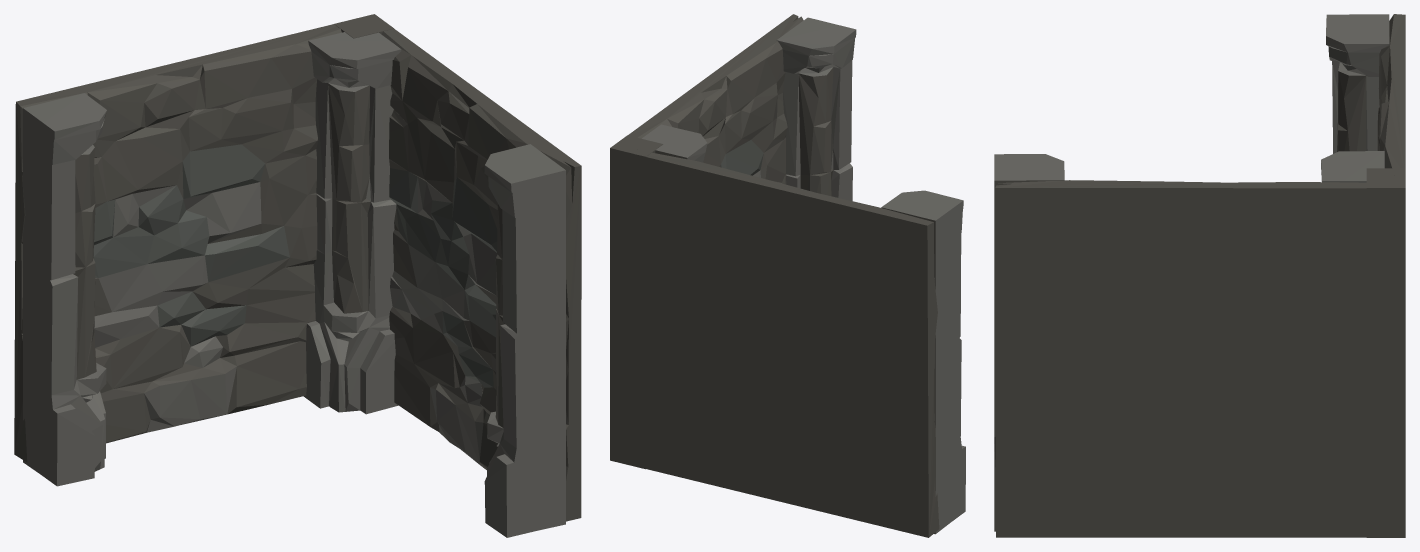
File: MDungeon_Walls_PillarMid_Corner_01.FBX
The picture shows the model from 3 angles, left to right: view 1: azimuth 30°, elevation 25°; view 2: azimuth 150°, elevation 25°; view 3: azimuth 270°, elevation 25°; orthographic projection. The views are drawn at different scales.
Visible parts, largest first — view 1: MDungeon_Walls_PillarMid_Corner_01_LOD0; view 2: MDungeon_Walls_PillarMid_Corner_01_LOD0; view 3: MDungeon_Walls_PillarMid_Corner_01_LOD0.
Part boxes in pixels (bbox=[...]): MDungeon_Walls_PillarMid_Corner_01_LOD0: bbox=[14, 14, 581, 537]; MDungeon_Walls_PillarMid_Corner_01_LOD0: bbox=[610, 14, 965, 537]; MDungeon_Walls_PillarMid_Corner_01_LOD0: bbox=[994, 14, 1405, 537].
Size of what is drawn, in the model's own units: 6.43 by 6.05 by 6.42.
